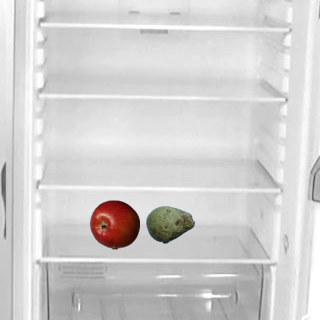Apple Braeburn: (89, 199, 139, 249)
Pear Stone: (145, 199, 195, 249)
